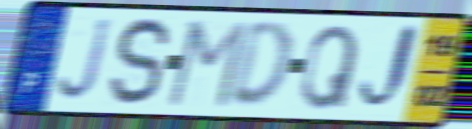D: (225, 19, 294, 112)
J: (355, 20, 422, 118), (54, 16, 116, 106)
M: (163, 18, 252, 111)
Q: (298, 22, 362, 113)
S: (106, 14, 174, 109)
